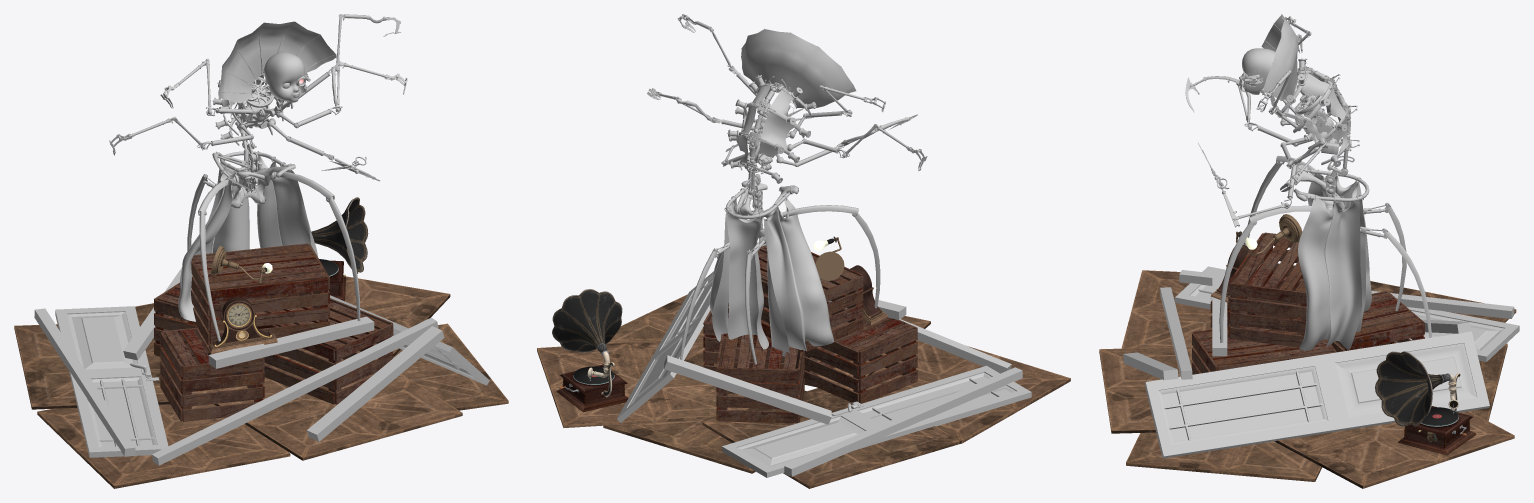
Rendered from Sketchfab_2023_03_18_22_27_42.fbx.
3 renders of one model, left to right at view 1: azimuth 30°, elevation 25°; view 2: azimuth 150°, elevation 25°; view 3: azimuth 270°, elevation 25°, orthographic. The views are drawn at different scales.
Parts seen in each view (by area): view 1: SM_Door_V01.002, PlanksBox_40x57.001, Tile04_low, Tile03_low, PlanksBox_40x40, PlanksBox_40x57, Umbrella, SM_Door_V01.004, Tile_low, Tile05_low, Skirt01, Tile02_low (+15 smaller); view 2: SM_Door_V01.002, Tile02_low, Skirt03, PlanksBox_40x40, SM_Gramophone_V01, Tile_low, PlanksBox_40x40.001, Umbrella, Tile03_low, Skirt02, SM_Door_V01.006, SM_Door_V01.003 (+11 smaller); view 3: SM_Door_V01.006, Skirt01, Tile02_low, PlanksBox_40x57.001, SM_Gramophone_V01, Tile05_low, Tile04_low, Tile03_low, PlanksBox_40x57, SM_Door_V01.002, PlanksBox_40x40.001, Umbrella (+17 smaller).
Boxes of the visible parts, x1,y1,x2,y2 form: SM_Door_V01.002: (55, 306, 168, 457); PlanksBox_40x57.001: (191, 243, 329, 345); Tile04_low: (214, 351, 462, 460); Tile03_low: (37, 404, 290, 488); PlanksBox_40x40: (160, 327, 264, 421); PlanksBox_40x57: (255, 298, 393, 404); Umbrella: (218, 21, 336, 103); SM_Door_V01.004: (152, 317, 438, 465); Tile_low: (14, 320, 221, 409); Tile05_low: (393, 323, 508, 410); Skirt01: (257, 156, 317, 294); Tile02_low: (277, 276, 450, 356); SM_Door_V01.002: (722, 365, 1031, 477); Tile02_low: (537, 338, 744, 427); Skirt03: (762, 199, 834, 356); PlanksBox_40x40: (804, 308, 917, 403); SM_Gramophone_V01: (552, 289, 628, 412); Tile_low: (702, 382, 960, 488); PlanksBox_40x40.001: (716, 333, 804, 423); Umbrella: (741, 29, 856, 107); Tile03_low: (870, 340, 1070, 443); Skirt02: (727, 213, 768, 349); SM_Door_V01.006: (617, 271, 713, 422); SM_Door_V01.003: (784, 367, 1022, 476); SM_Door_V01.006: (1144, 331, 1489, 458); Skirt01: (1298, 198, 1361, 350); Tile02_low: (1274, 411, 1514, 488); PlanksBox_40x57.001: (1228, 232, 1306, 347); SM_Gramophone_V01: (1375, 351, 1476, 455); Tile05_low: (1126, 432, 1321, 481); Tile04_low: (1099, 346, 1193, 433); Tile03_low: (1121, 270, 1212, 348); PlanksBox_40x57: (1192, 318, 1336, 374); SM_Door_V01.002: (1175, 266, 1519, 361); PlanksBox_40x40.001: (1331, 291, 1424, 352); Umbrella: (1261, 15, 1298, 102).
Bounding box in the file's own units: 223 × 174 × 181.
